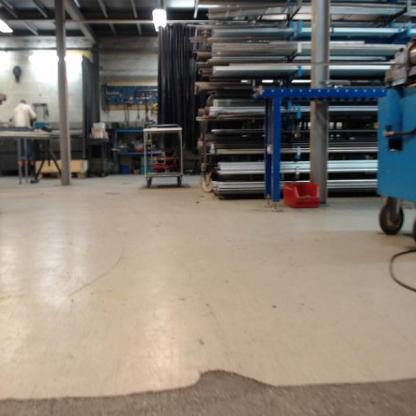pallet: (35, 171, 91, 181)
